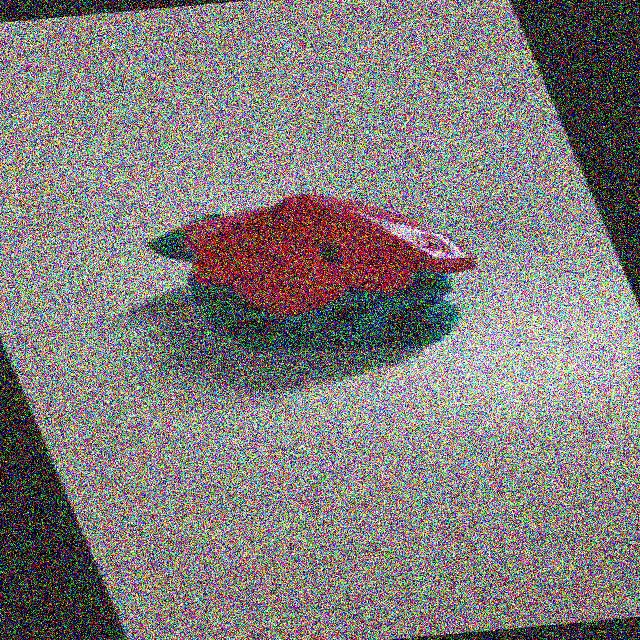House: (123, 178, 526, 384)
